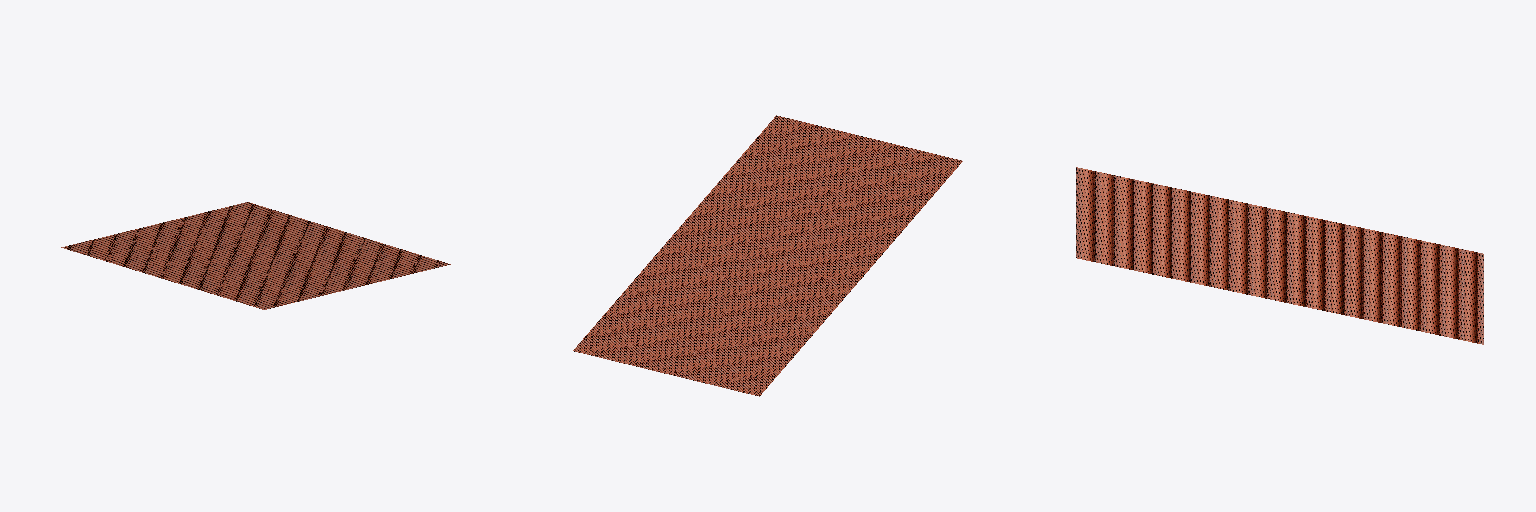
3 renders of one model, left to right at view 1: azimuth 30°, elevation 25°; view 2: azimuth 150°, elevation 25°; view 3: azimuth 270°, elevation 25°, orthographic.
Parts seen in each view (by area): view 1: Mesh008; view 2: Mesh008; view 3: Mesh008.
Boxes of the visible parts, x1=… form: Mesh008: x1=61, y1=202, x2=450, y2=309; Mesh008: x1=573, y1=115, x2=962, y2=396; Mesh008: x1=1076, y1=167, x2=1483, y2=344.
Size of the model in its own units: 33.21 by 14.7 by 62.67.
1 materials, 1 textured.